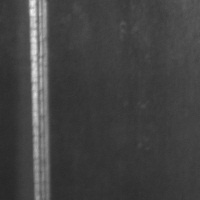scratches: (26, 1, 54, 200)
